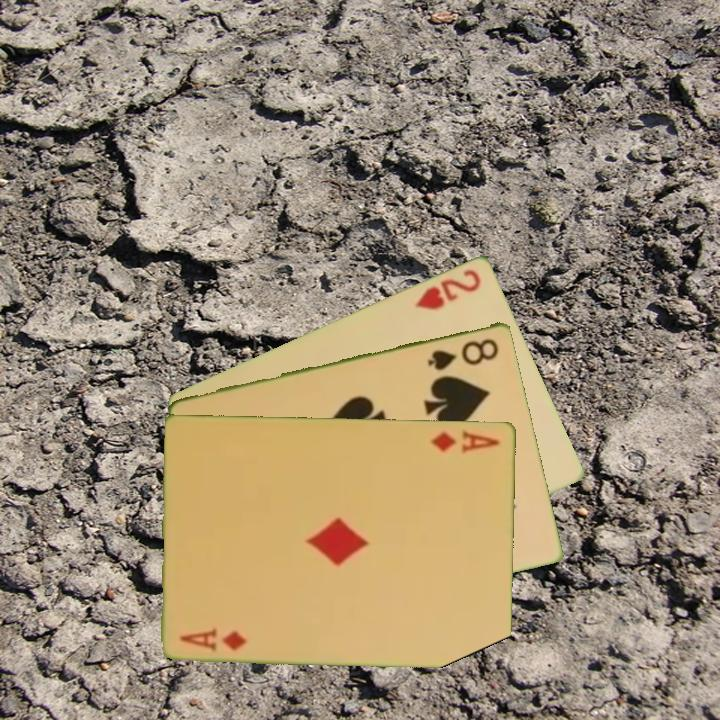2h: (411, 265, 484, 313)
8s: (424, 334, 502, 373)
Ad: (427, 426, 502, 456), (177, 625, 250, 654)
